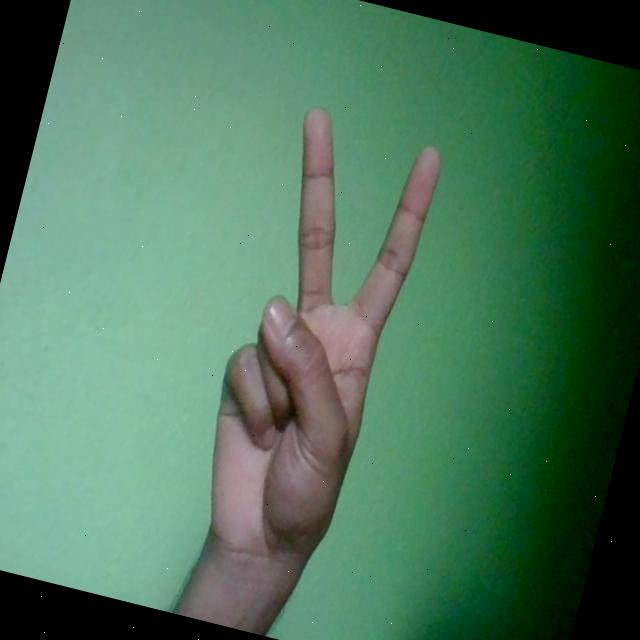Fist: (177, 98, 447, 590)
